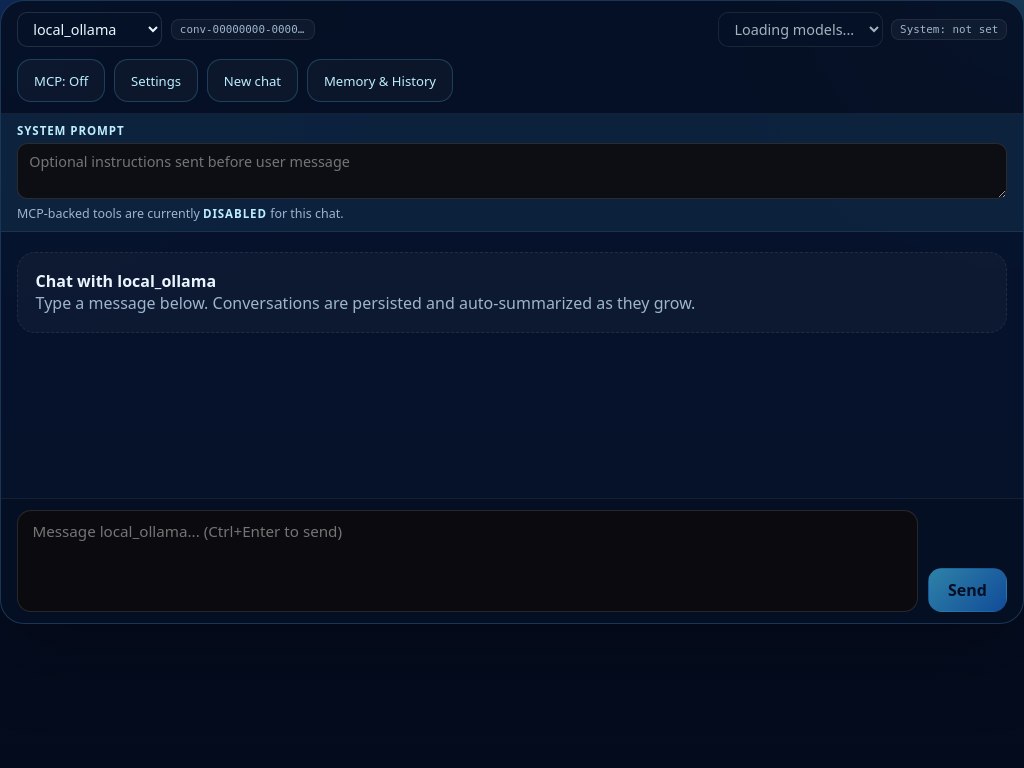
Test case: ChatPage › sends a message and shows user text and assistant reply in the thread
This screenshot has width=1024, height=768.
Type "Hi!" into the text box labelled "Message" at (468, 561), box [17, 510, 918, 612]
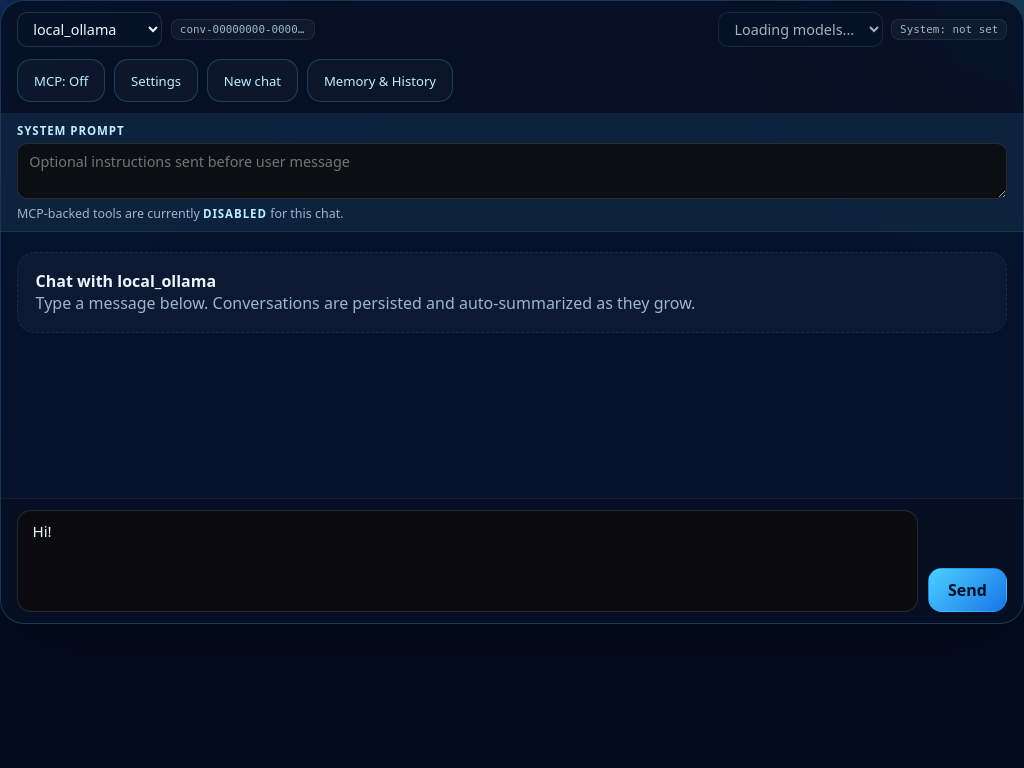
Click the button "Send" at (967, 590), box [928, 568, 1007, 612]
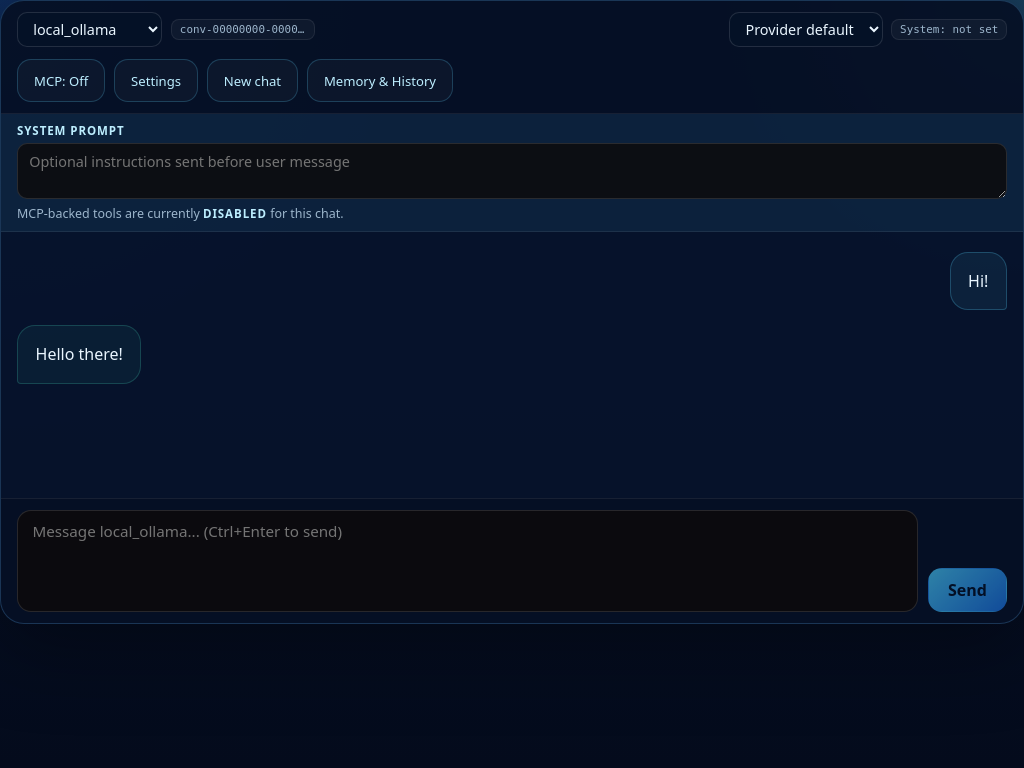
Expected: the text "Hi!" is shown, [968, 269, 988, 294]
Expected: the text "Hello there!" is shown, [36, 342, 123, 367]
